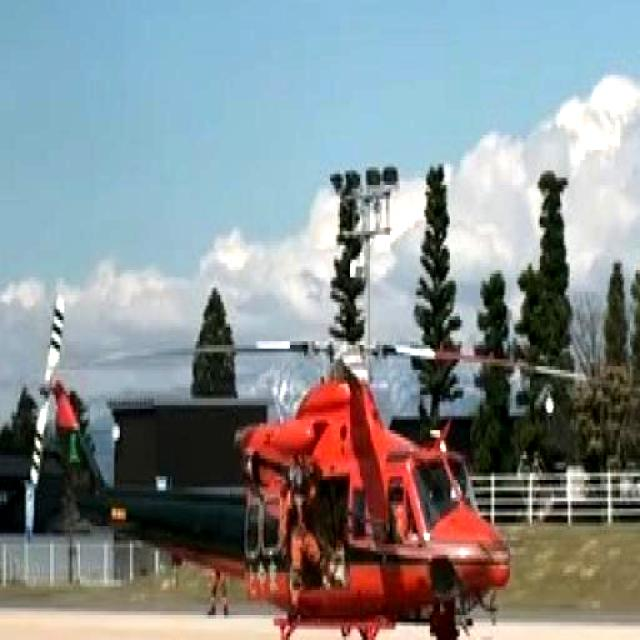drone: (19, 282, 640, 640)
